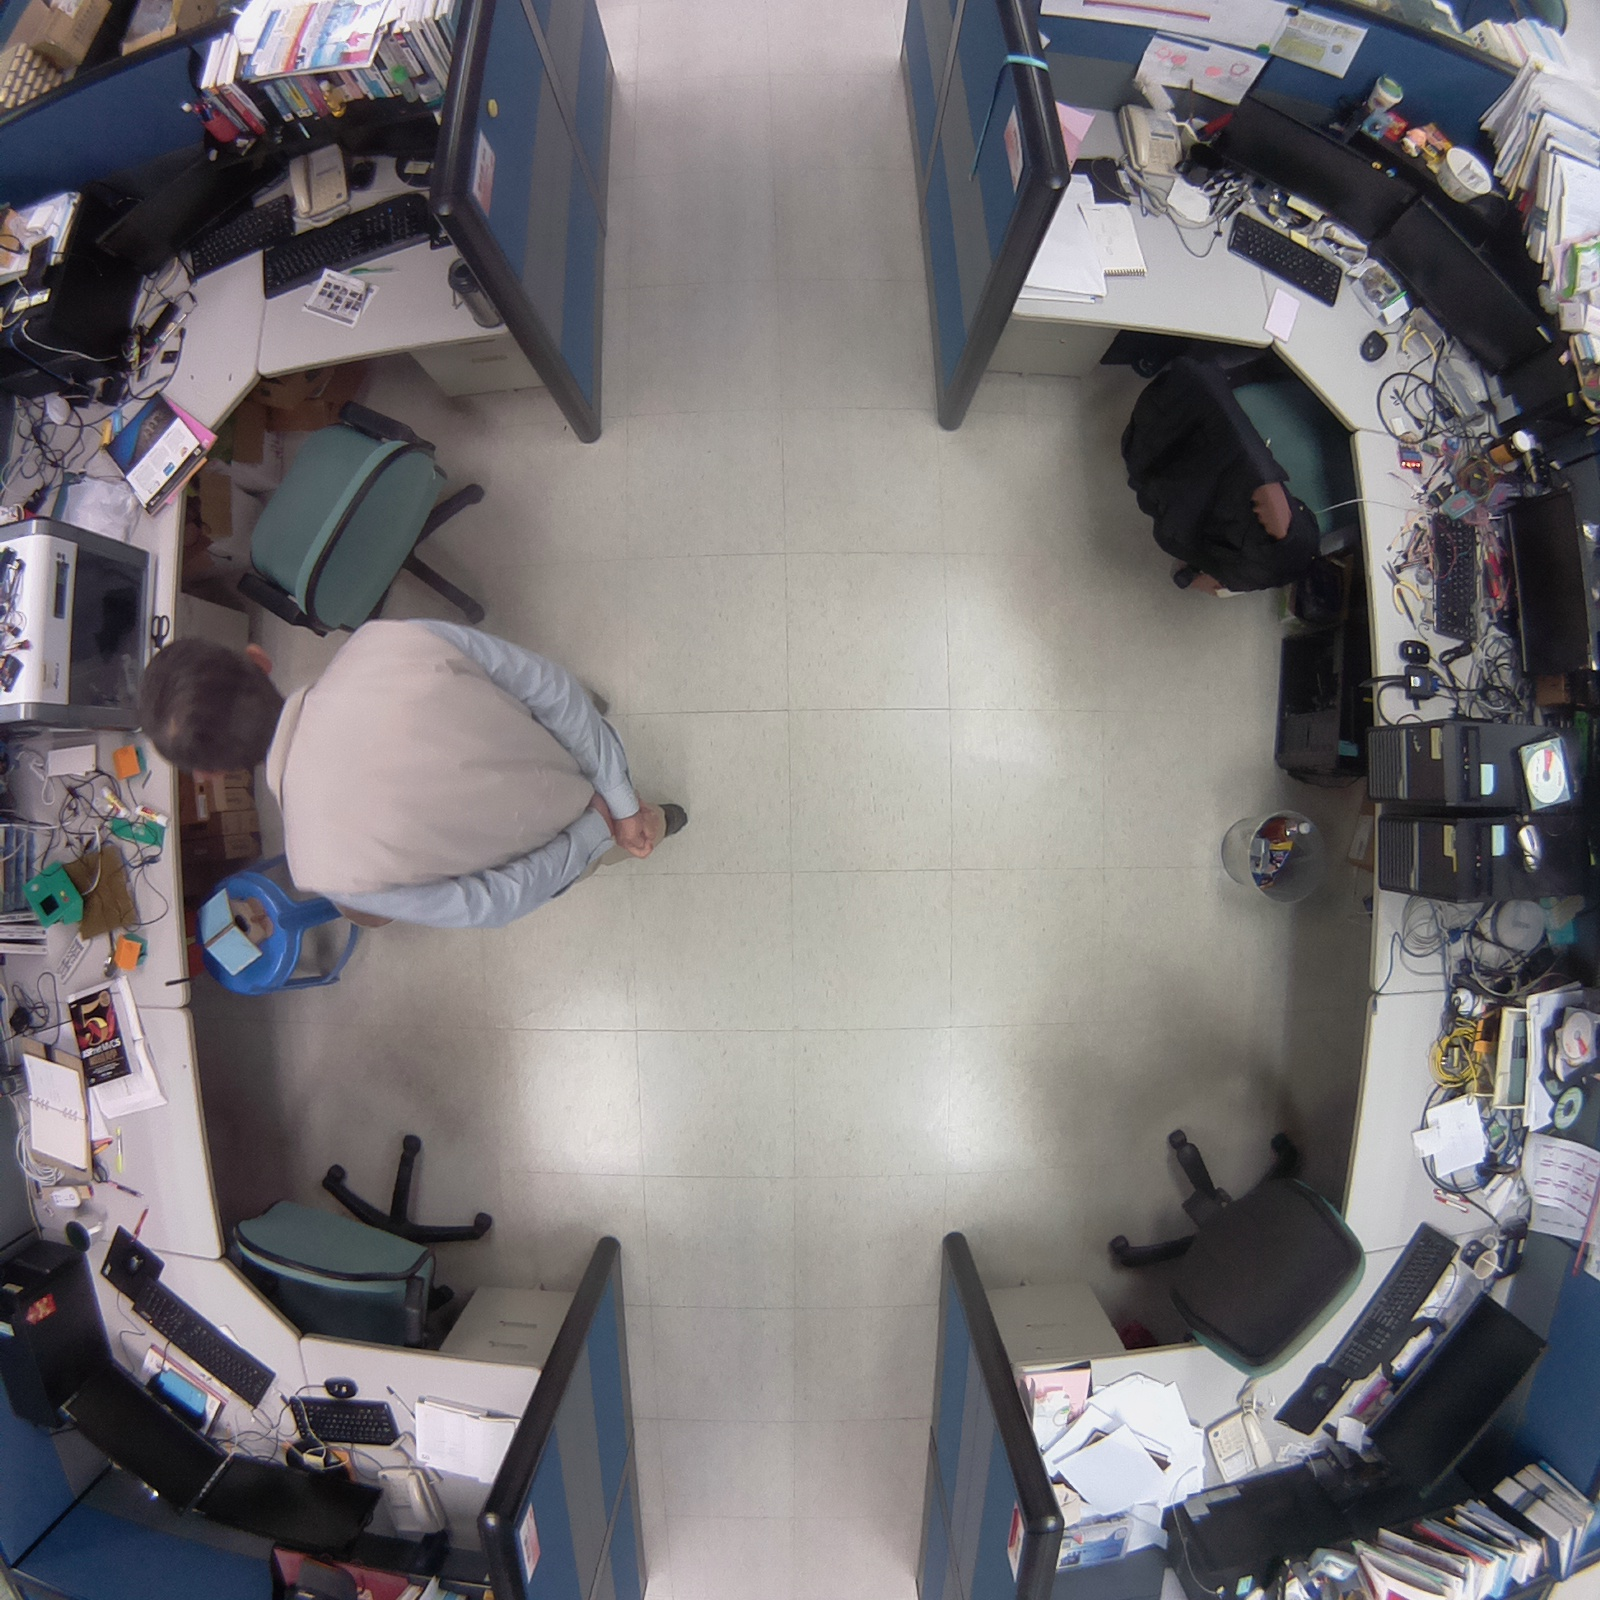chair: (1090, 1100, 1382, 1395), (1108, 340, 1386, 615), (218, 391, 508, 645), (212, 1122, 510, 1363)
standing: (122, 602, 708, 955)
